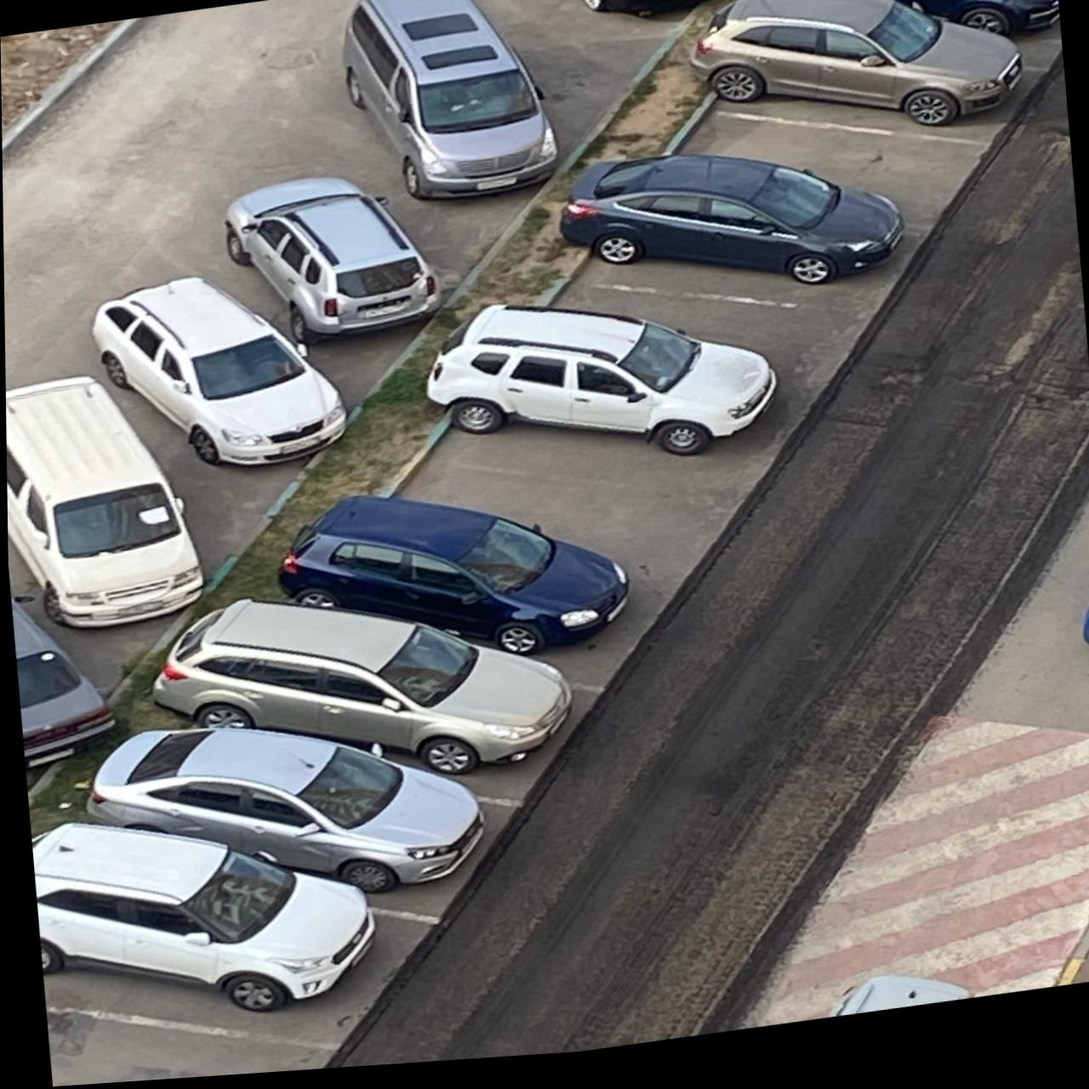cars: (153, 547, 620, 841), (84, 690, 508, 947), (405, 268, 823, 517), (503, 131, 938, 369), (34, 818, 408, 1088), (271, 479, 653, 708), (690, 0, 1044, 183)
empty: (336, 401, 758, 632), (496, 240, 867, 443), (665, 67, 995, 262)
